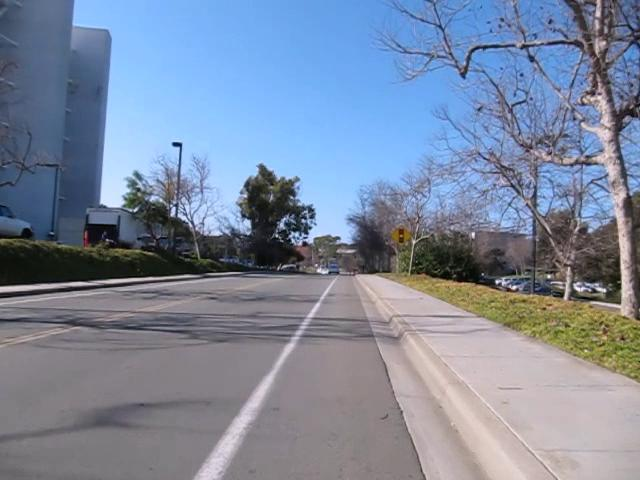signalAhead: (389, 223, 413, 246)
